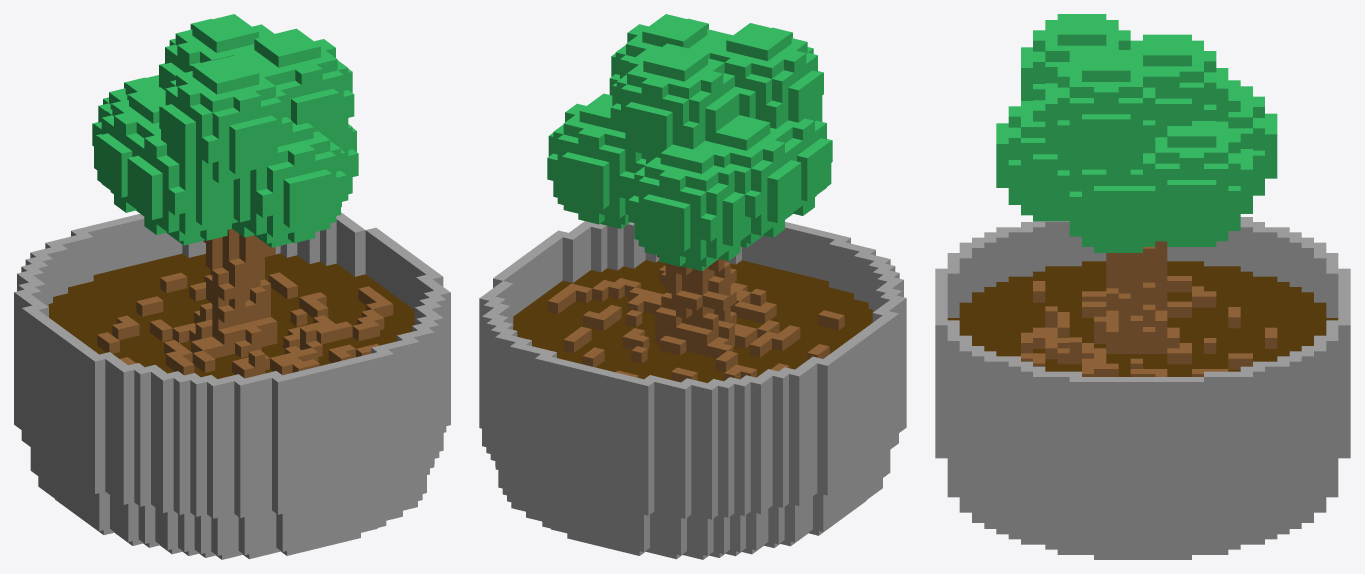
File: Pohon Pot.obj
3 views of the same model, side by side, from view 1: azimuth 30°, elevation 25°; view 2: azimuth 150°, elevation 25°; view 3: azimuth 270°, elevation 25° (orthographic). The views are drawn at different scales.
Bounding box in the file's own units: 3.3 × 4 × 3.4.
1 material, 1 textured.
